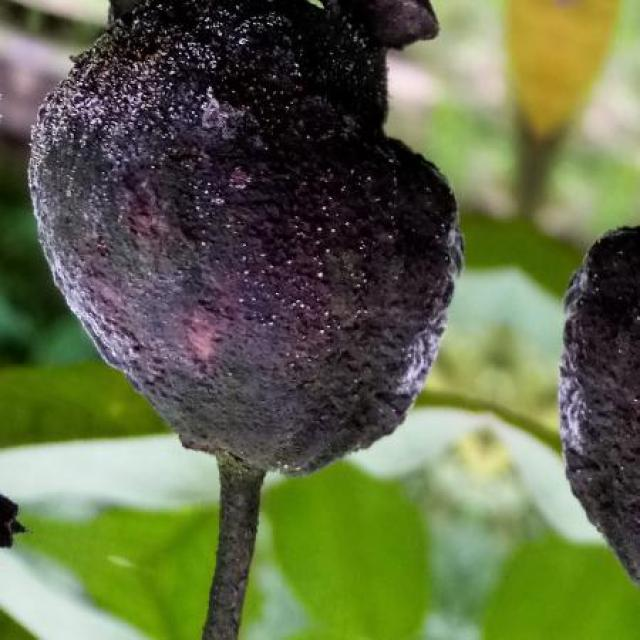Phytopthora: (30, 0, 461, 639), (560, 226, 640, 582)
